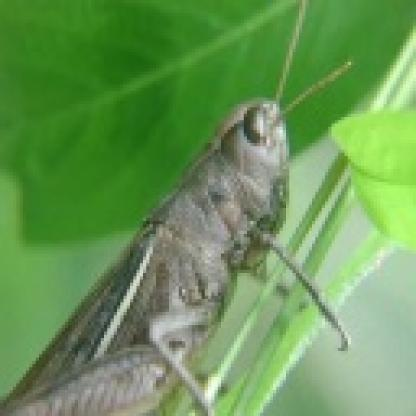grasshopper: (0, 0, 359, 416)
